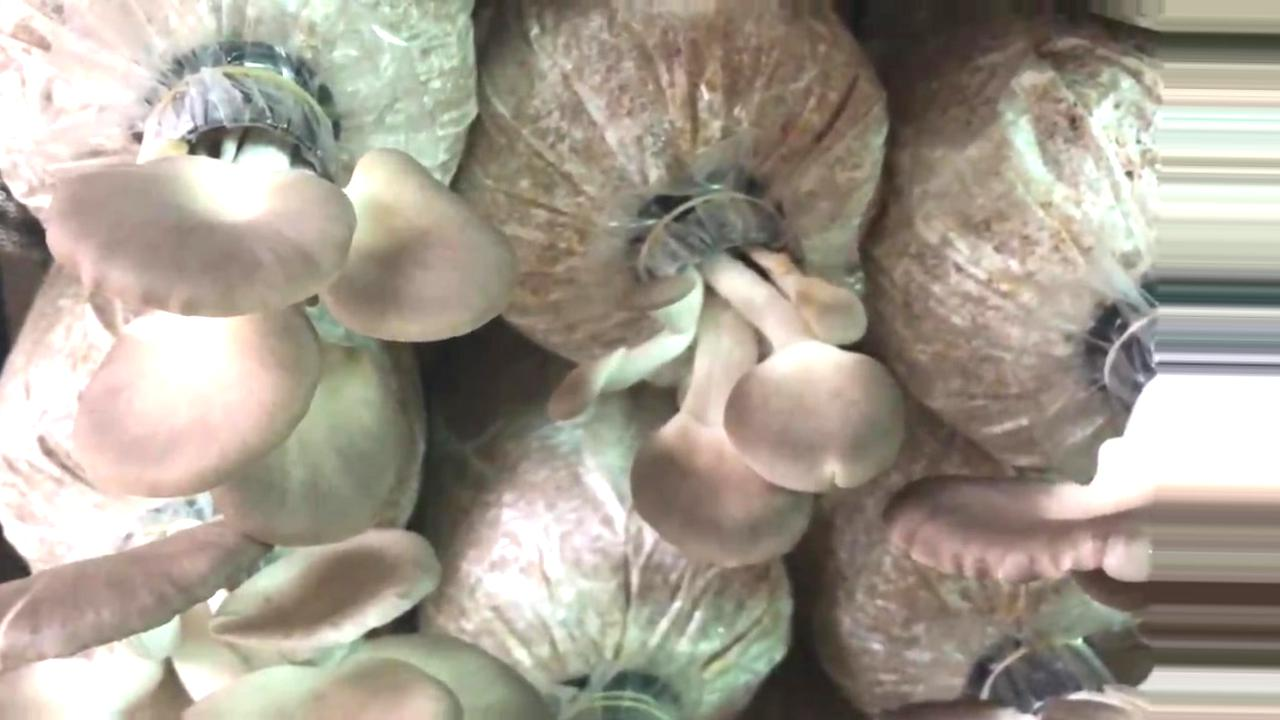nam: (46, 42, 517, 546), (546, 174, 903, 566), (1, 530, 550, 717), (909, 484, 1160, 578)
